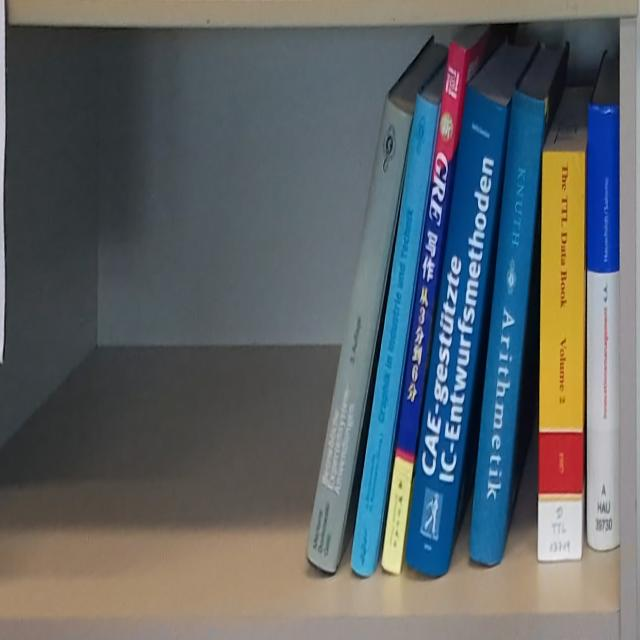Book Spine: (306, 96, 414, 574), (407, 83, 508, 579), (379, 39, 467, 576), (350, 92, 438, 577), (469, 90, 547, 568), (538, 149, 586, 565), (588, 102, 621, 552)
